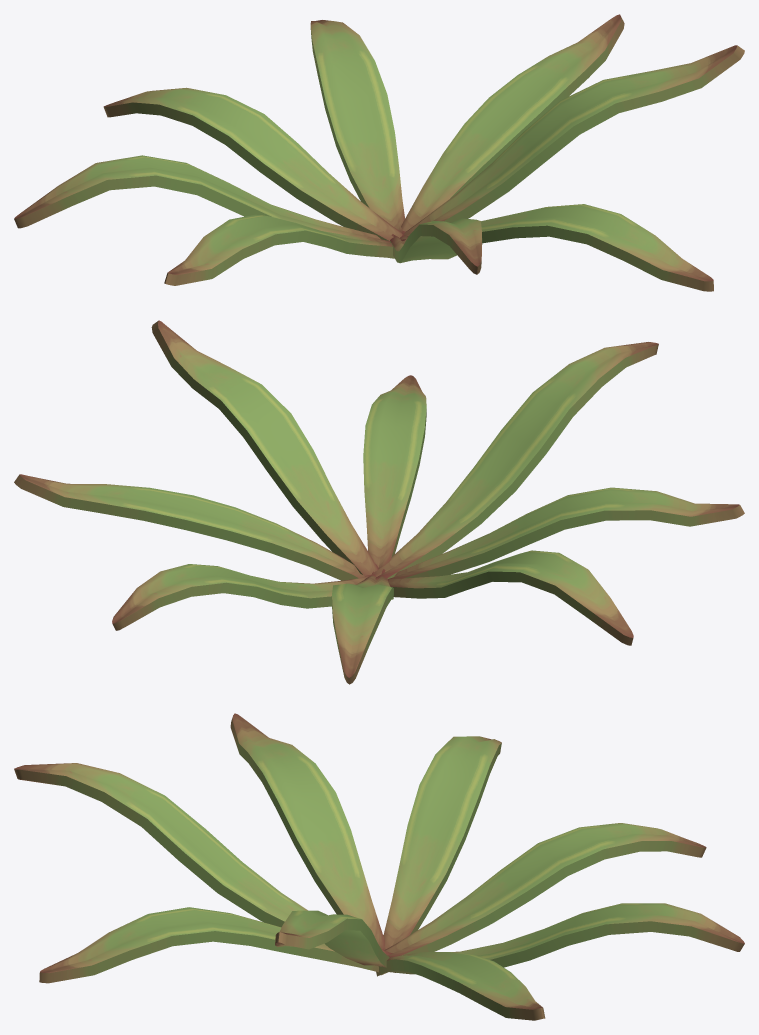
Rendered from OldMagueyTest_NotFrozen.fbx.
3 views of the same model, one above another, from view 1: azimuth 30°, elevation 25°; view 2: azimuth 150°, elevation 25°; view 3: azimuth 270°, elevation 25° (orthographic). The views are drawn at different scales.
Parts seen in each view (by area): view 1: OldMaguey_Leaf7, OldMaguey_Leaf2, OldMaguey_Leaf8, OldMaguey_Leaf1, OldMaguey_Leaf6, OldMaguey_Leaf3, OldMaguey_Leaf5, OldMaguey_Leaf4; view 2: OldMaguey_Leaf4, OldMaguey_Leaf2, OldMaguey_Leaf1, OldMaguey_Leaf5, OldMaguey_Leaf3, OldMaguey_Leaf6, OldMaguey_Leaf8, OldMaguey_Leaf7; view 3: OldMaguey_Leaf5, OldMaguey_Leaf6, OldMaguey_Leaf7, OldMaguey_Leaf4, OldMaguey_Leaf3, OldMaguey_Leaf8, OldMaguey_Leaf1, OldMaguey_Leaf2.
Boxes of the visible parts, x1=… form: OldMaguey_Leaf7: x1=103, y1=87, x2=402, y2=241; OldMaguey_Leaf2: x1=403, y1=45, x2=744, y2=237; OldMaguey_Leaf8: x1=310, y1=20, x2=405, y2=237; OldMaguey_Leaf1: x1=401, y1=14, x2=624, y2=231; OldMaguey_Leaf6: x1=14, y1=155, x2=389, y2=241; OldMaguey_Leaf3: x1=401, y1=204, x2=713, y2=291; OldMaguey_Leaf5: x1=164, y1=214, x2=394, y2=285; OldMaguey_Leaf4: x1=390, y1=218, x2=482, y2=274; OldMaguey_Leaf4: x1=371, y1=342, x2=658, y2=578; OldMaguey_Leaf2: x1=151, y1=320, x2=378, y2=575; OldMaguey_Leaf1: x1=14, y1=474, x2=364, y2=580; OldMaguey_Leaf5: x1=388, y1=487, x2=744, y2=580; OldMaguey_Leaf3: x1=363, y1=375, x2=426, y2=573; OldMaguey_Leaf6: x1=388, y1=550, x2=633, y2=645; OldMaguey_Leaf8: x1=112, y1=564, x2=377, y2=630; OldMaguey_Leaf7: x1=332, y1=575, x2=393, y2=684; OldMaguey_Leaf5: x1=230, y1=713, x2=384, y2=949; OldMaguey_Leaf6: x1=383, y1=736, x2=501, y2=949; OldMaguey_Leaf7: x1=381, y1=823, x2=706, y2=975; OldMaguey_Leaf4: x1=14, y1=763, x2=391, y2=972; OldMaguey_Leaf3: x1=39, y1=907, x2=378, y2=983; OldMaguey_Leaf8: x1=389, y1=903, x2=744, y2=974; OldMaguey_Leaf1: x1=376, y1=952, x2=545, y2=1020; OldMaguey_Leaf2: x1=275, y1=910, x2=389, y2=967.
Size of the model in its own units: 0.0737 by 0.0201 by 0.0747.
